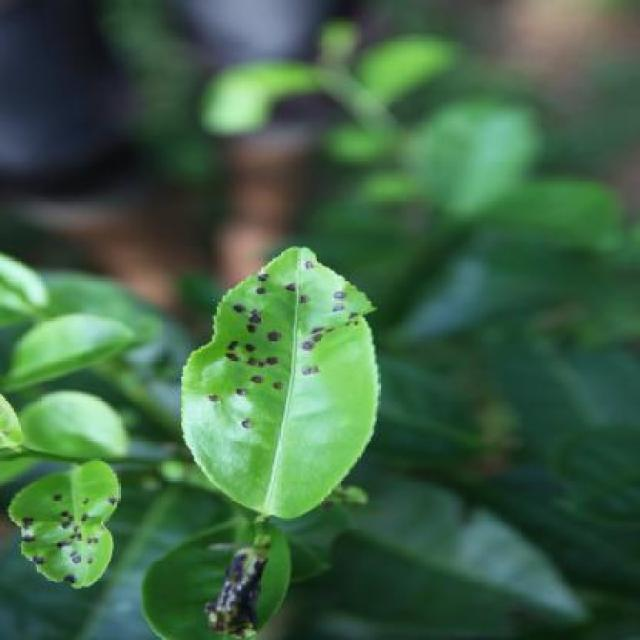Tea Mosquito bug infested leaf: (182, 237, 389, 512), (6, 468, 142, 584), (208, 529, 278, 640)
